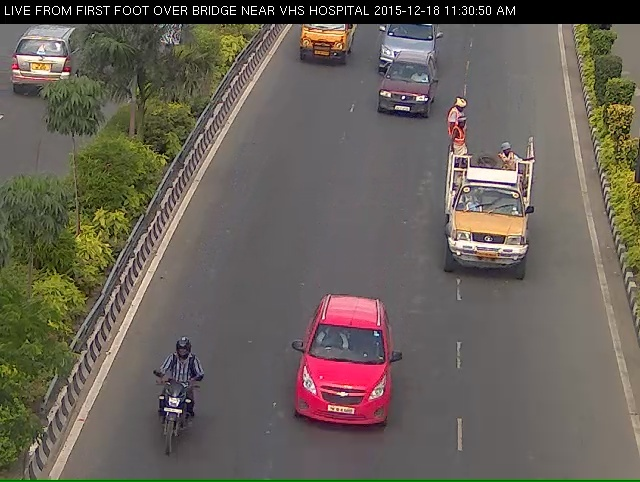Auto: (443, 142, 542, 285)
Car: (273, 310, 396, 464), (376, 65, 439, 129), (375, 20, 444, 77), (377, 22, 440, 74)
Person: (144, 356, 203, 477)
